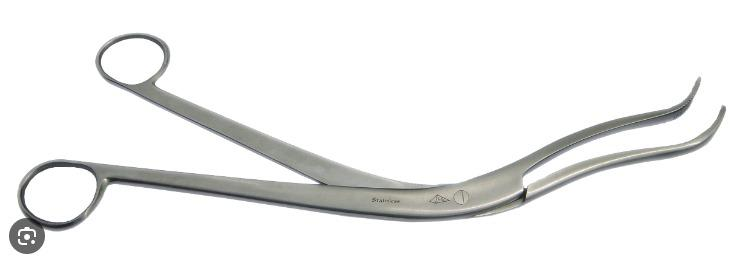Cheatle Forceps: (22, 19, 728, 241)
